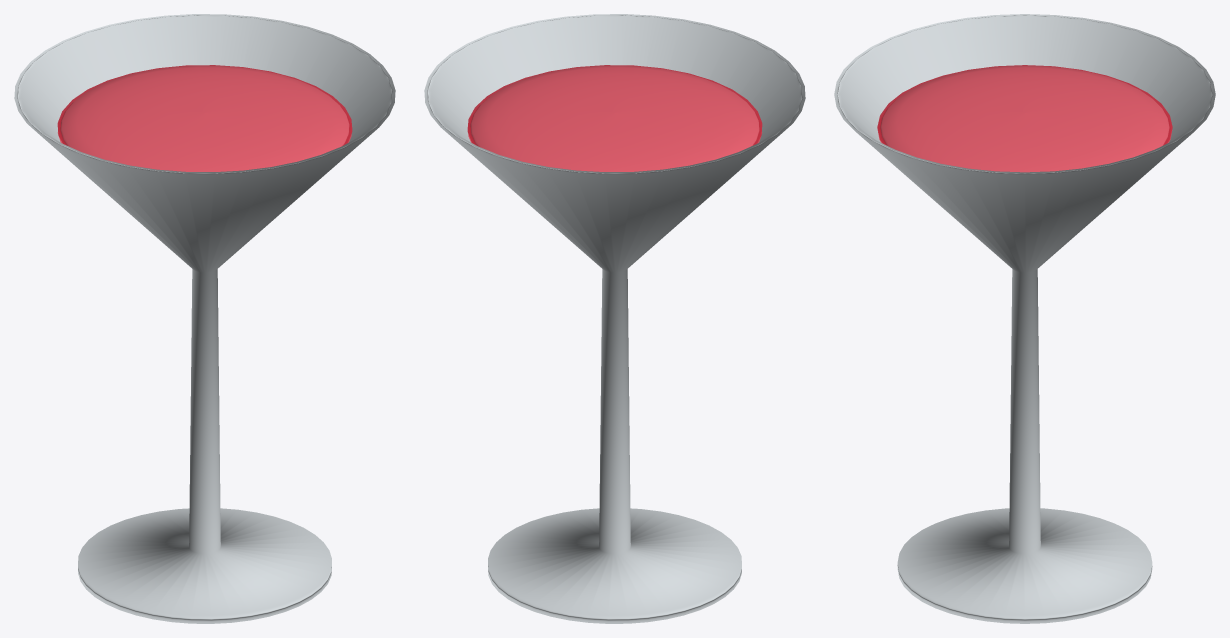
The model's file is cocktail-campari-shakerato.glb.
3 renders of one model, left to right at view 1: azimuth 30°, elevation 25°; view 2: azimuth 150°, elevation 25°; view 3: azimuth 270°, elevation 25°, orthographic.
Size of the model in its own units: 0.12 by 0.165 by 0.12.
